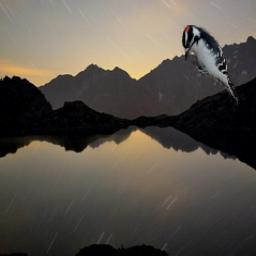Woodpecker: (182, 23, 239, 106)
